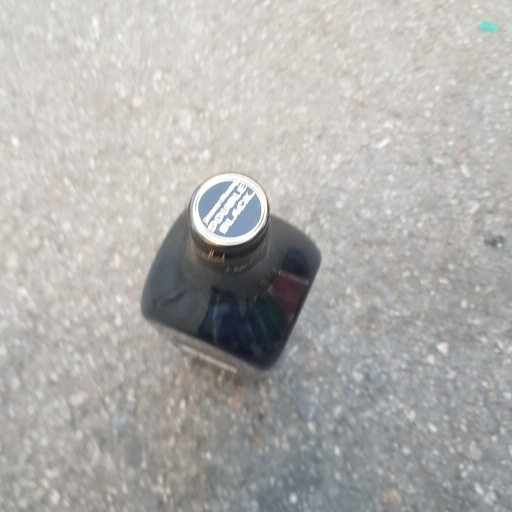Glass_2: (140, 172, 320, 389)
